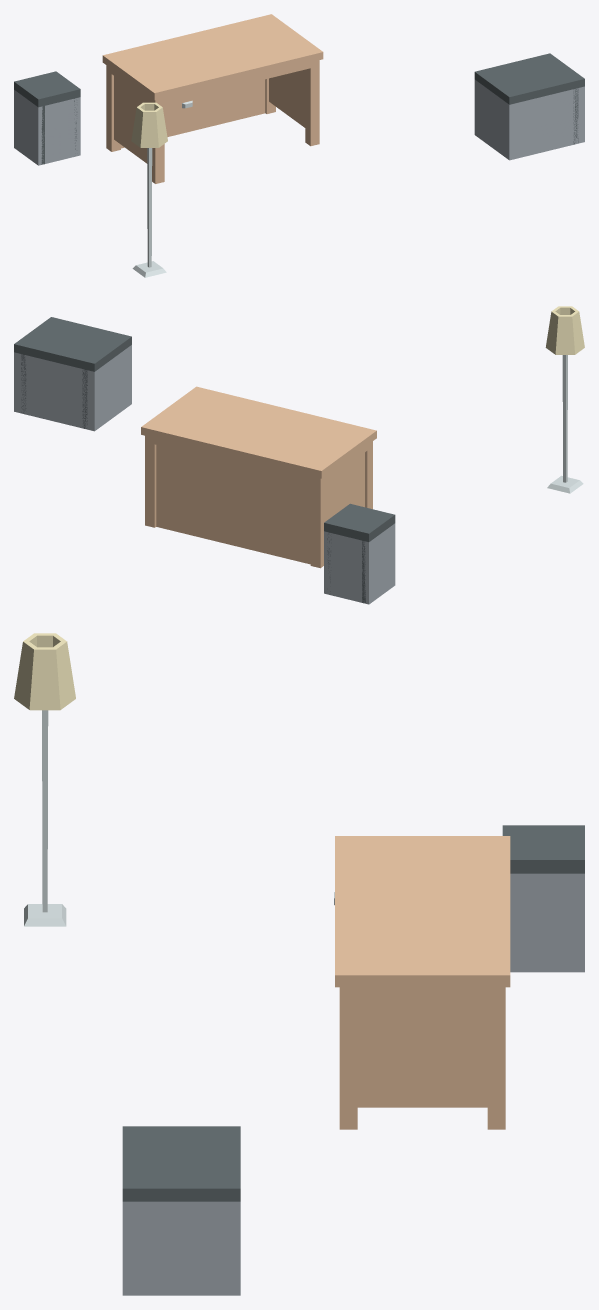
The picture shows the model from 3 angles, top to bottom: view 1: azimuth 30°, elevation 25°; view 2: azimuth 150°, elevation 25°; view 3: azimuth 270°, elevation 25°; orthographic projection. The views are drawn at different scales.
Visible parts, largest first — view 1: desk_blue__desk(Clone), crate_red__crate_red shell, bin_gray__bin_gray shell, crate_red__crate_red lid, lamp_white__lampRoundFloor(Clone), bin_gray__bin_gray lid, desk_blue__drawer, crate_red__crate_red band.001; view 2: desk_blue__desk(Clone), crate_red__crate_red shell, bin_gray__bin_gray shell, crate_red__crate_red lid, lamp_white__lampRoundFloor(Clone), bin_gray__bin_gray lid; view 3: desk_blue__desk(Clone), crate_red__crate_red shell, crate_red__crate_red lid, bin_gray__bin_gray shell, lamp_white__lampRoundFloor(Clone), bin_gray__bin_gray lid.
Part boxes in pixels (x1,y1,x2,y2): desk_blue__desk(Clone): (102, 14, 323, 183); crate_red__crate_red shell: (474, 79, 584, 160); bin_gray__bin_gray shell: (14, 90, 80, 165); crate_red__crate_red lid: (474, 53, 584, 104); lamp_white__lampRoundFloor(Clone): (131, 102, 167, 277); bin_gray__bin_gray lid: (14, 71, 80, 107); desk_blue__drawer: (164, 93, 209, 115); crate_red__crate_red band.001: (540, 55, 578, 144); desk_blue__desk(Clone): (141, 386, 376, 568); crate_red__crate_red shell: (14, 345, 131, 431); bin_gray__bin_gray shell: (324, 523, 395, 604); crate_red__crate_red lid: (14, 317, 131, 371); lamp_white__lampRoundFloor(Clone): (545, 306, 584, 493); bin_gray__bin_gray lid: (324, 503, 395, 541); desk_blue__desk(Clone): (335, 836, 510, 1129); crate_red__crate_red shell: (122, 1201, 240, 1295); crate_red__crate_red lid: (122, 1126, 240, 1201); bin_gray__bin_gray shell: (510, 873, 584, 972); lamp_white__lampRoundFloor(Clone): (14, 633, 75, 926); bin_gray__bin_gray lid: (502, 825, 584, 873).
Bounding box in the file's own units: 3.63 × 1.2 × 2.25.
